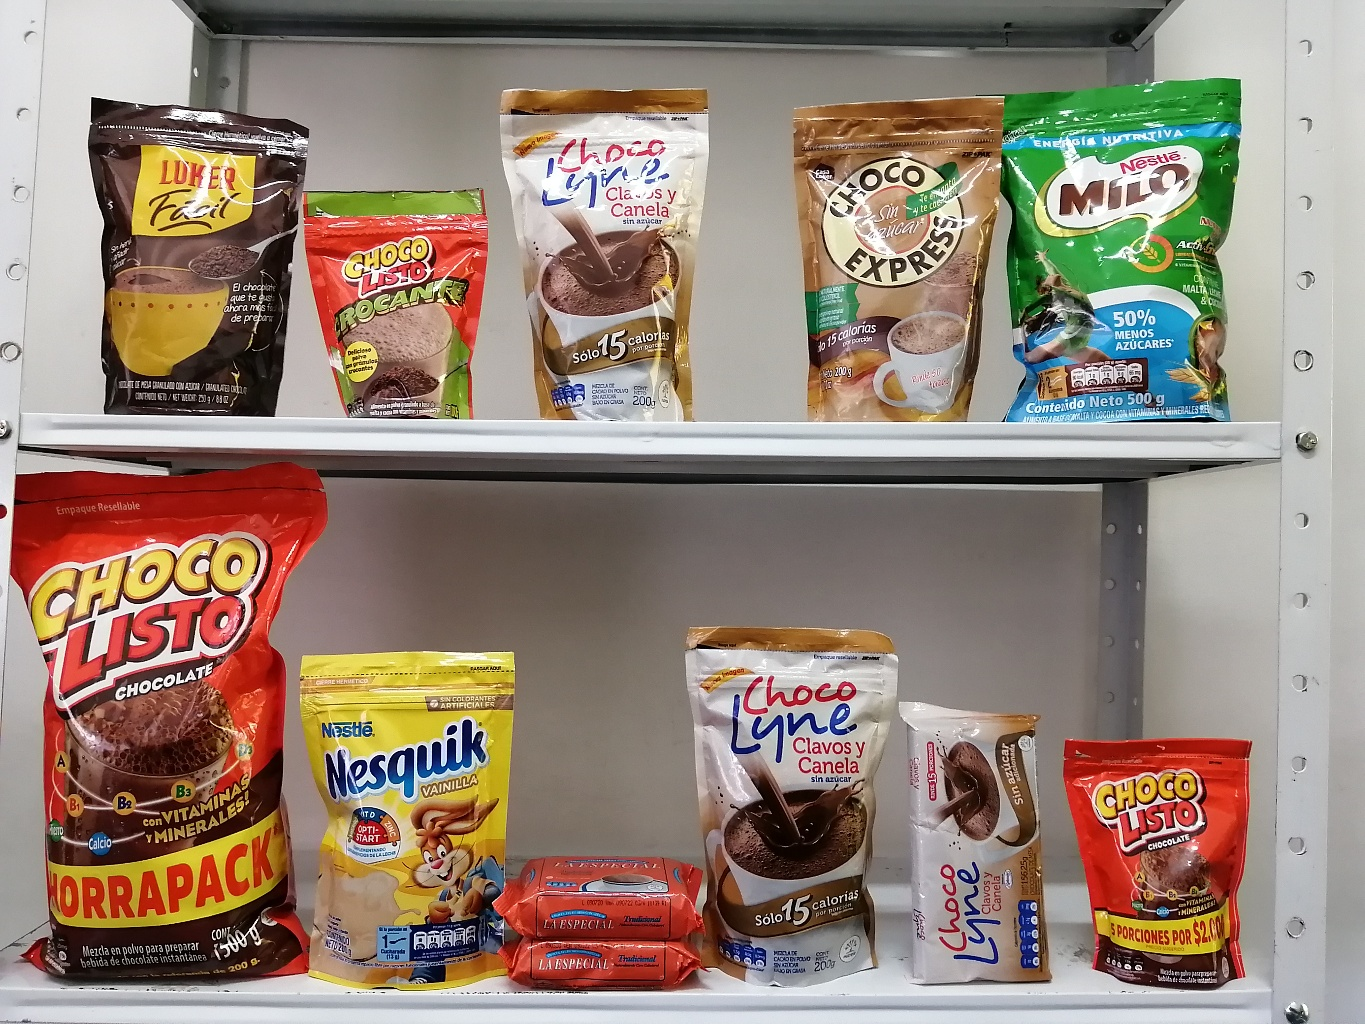COL0170102DYP10000: (301, 180, 493, 415)
COL0170103DYP1,500: (6, 453, 328, 986)
COL0170205DYP50000: (996, 75, 1241, 431)
COL0170306DYP20000: (280, 638, 522, 994)
